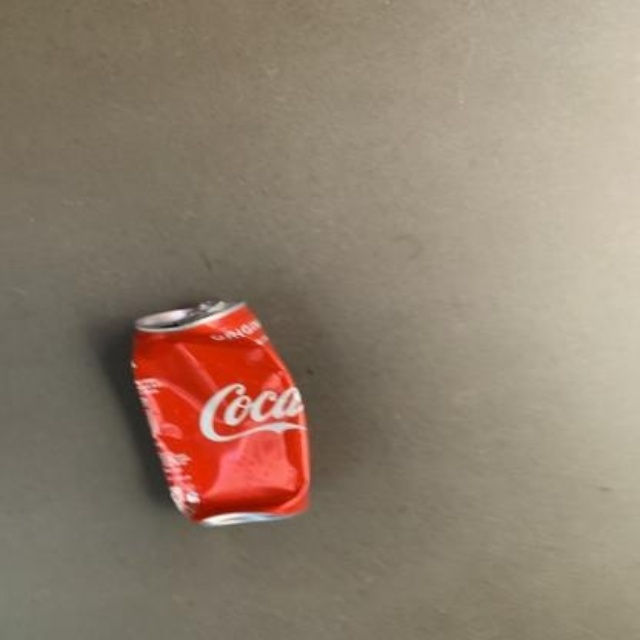trash: (131, 300, 308, 525)
